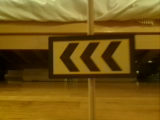left: (49, 36, 135, 76)
